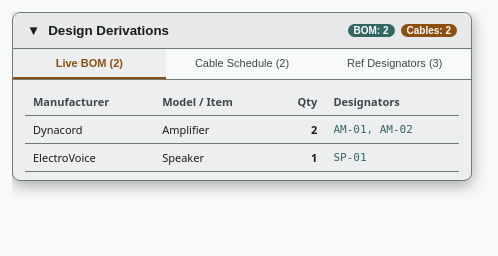
Test case: Batch 163 (EN.W2) — Design Derivations Tray › proves the Cable Schedule strictly sources length from physical routing (rejecting schematic fallbacks)
# Switch to Cable Schedule tab
Click the button with test id "derivations-tab-cables": (242, 64) [166,49,318,79]
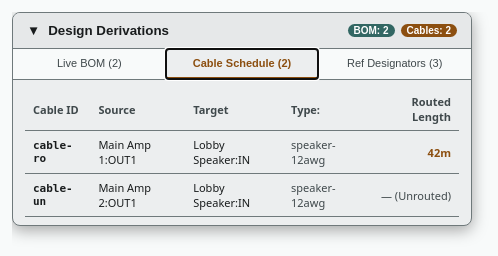
Now the table with test id "derivations-cables-table" is shown, box [25,88,459,217]
Now the cell with test id "cable-length-cable-routed-1" shows "42", box [368,130,459,174]
Now the cell with test id "cable-length-cable-unrouted-1" reads "— (Unrouted)", box [381,188,451,202]
